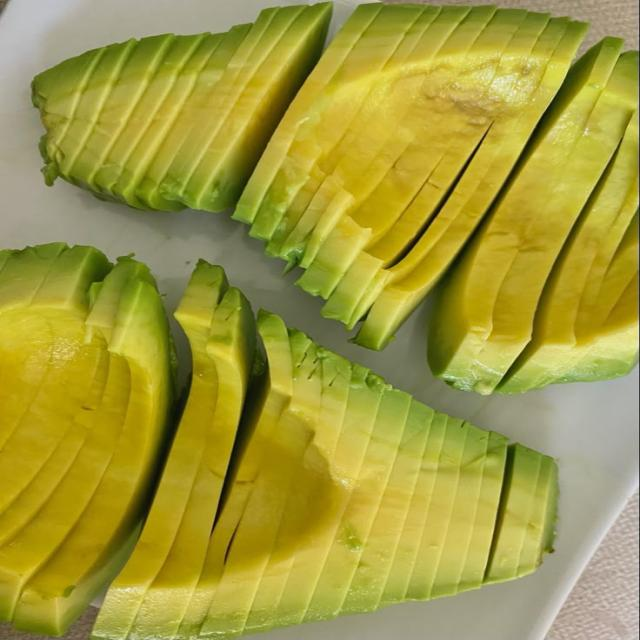avocado: (94, 312, 514, 639), (235, 5, 586, 348), (355, 19, 586, 349), (429, 38, 637, 393), (0, 244, 173, 635), (33, 3, 331, 210), (94, 261, 255, 638), (94, 269, 227, 638), (332, 6, 524, 260), (498, 112, 638, 392), (176, 311, 293, 638), (322, 104, 490, 328), (200, 331, 321, 637), (322, 114, 489, 328), (305, 377, 411, 621), (343, 400, 436, 611), (380, 401, 459, 606), (484, 445, 557, 583), (299, 349, 351, 510)
